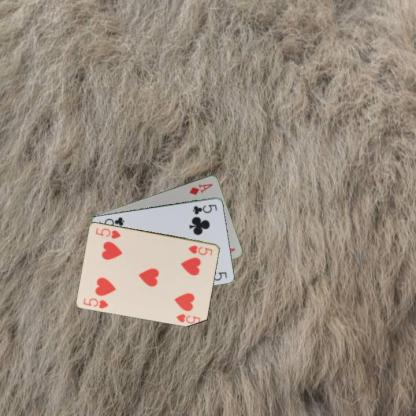5c: (190, 202, 218, 216)
5h: (81, 295, 110, 310), (186, 242, 214, 257)
Ad: (186, 181, 214, 196)
